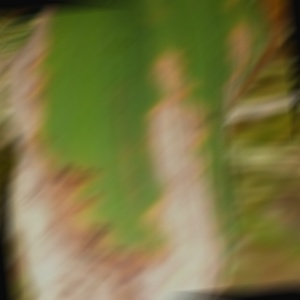Leaf_Blast: (27, 3, 247, 300)
